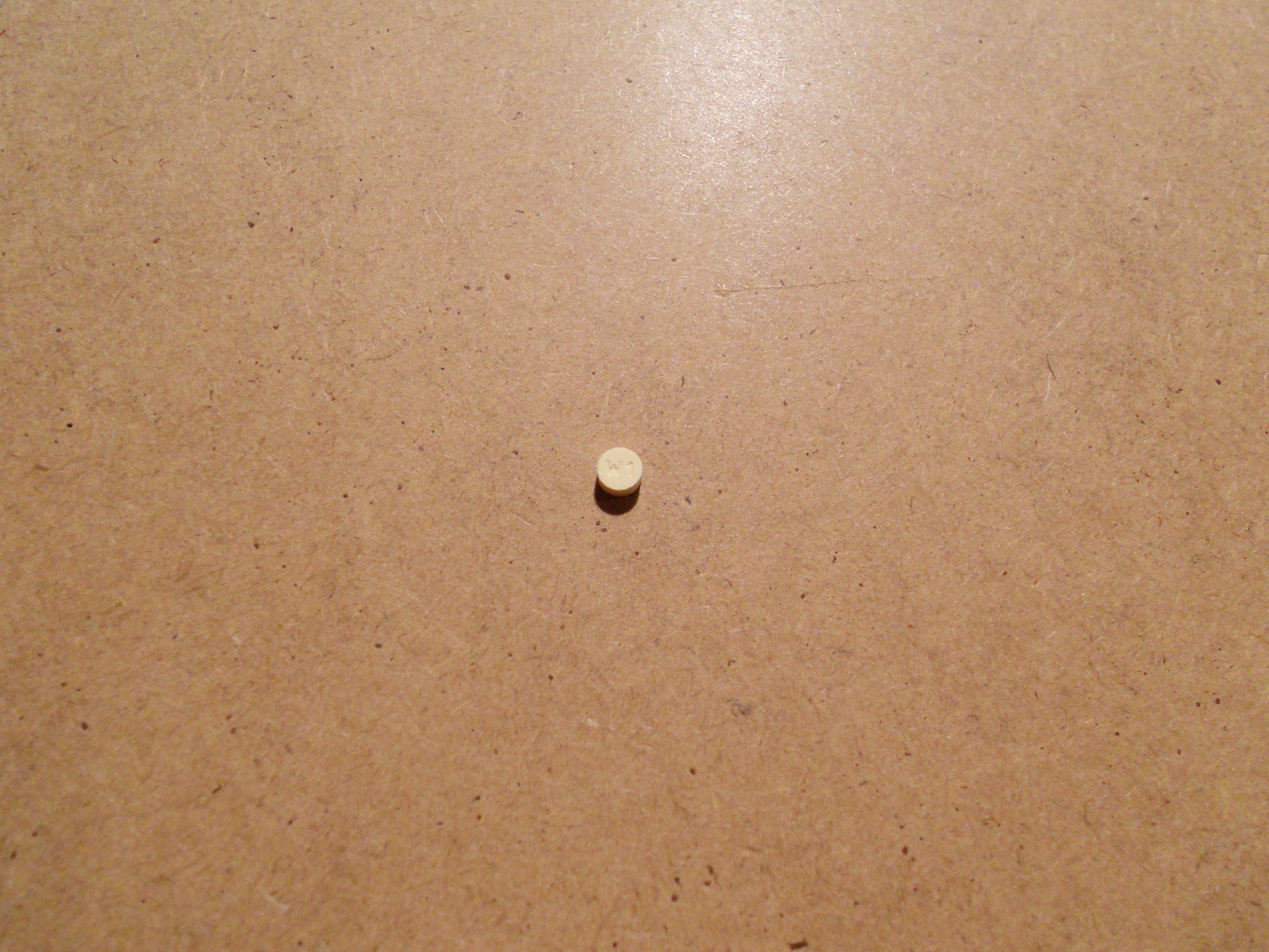Pill: (588, 440, 650, 503)
